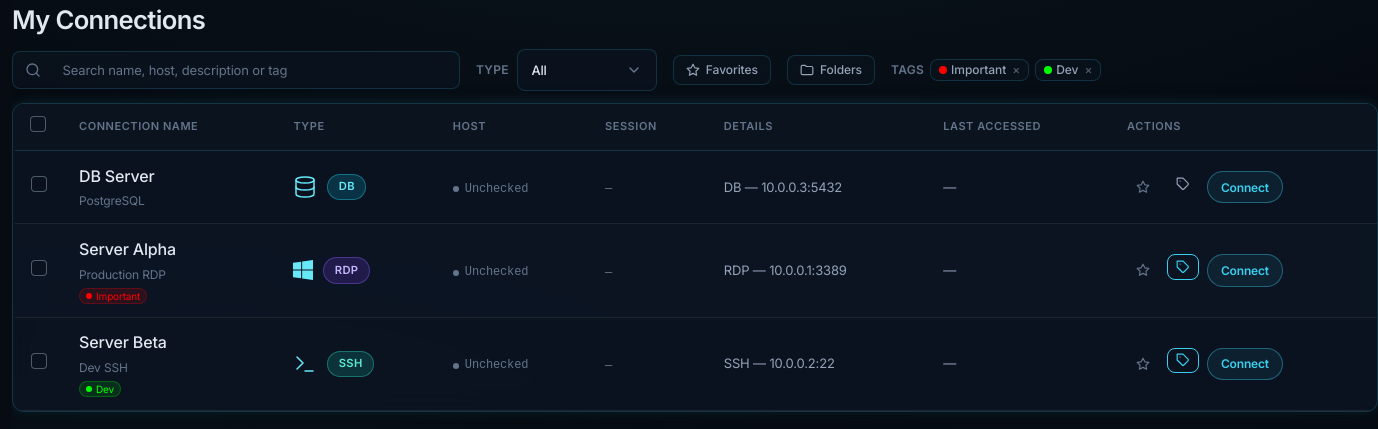
Test: Dashboard › filters connections by tag
The width and height of the screenshot is (1378, 429).
Expected: the text "Server Alpha" is shown, [79, 239, 176, 259]
Note: Click the first filter button after the Tags label (which is "Important")
What coordinates should you click on to do the following:
click the button "Important ×"
I would click on:
 (980, 70)
Its box is [930, 59, 1029, 81].
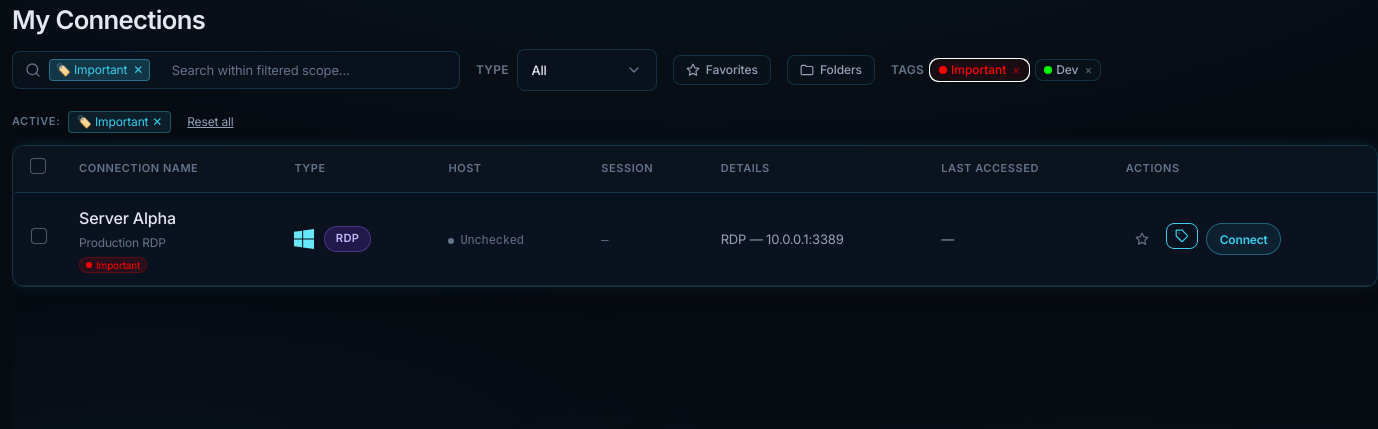
Expected: the text "Server Alpha" is shown, [79, 208, 176, 228]
Expected: the text "DB Server" is gone
